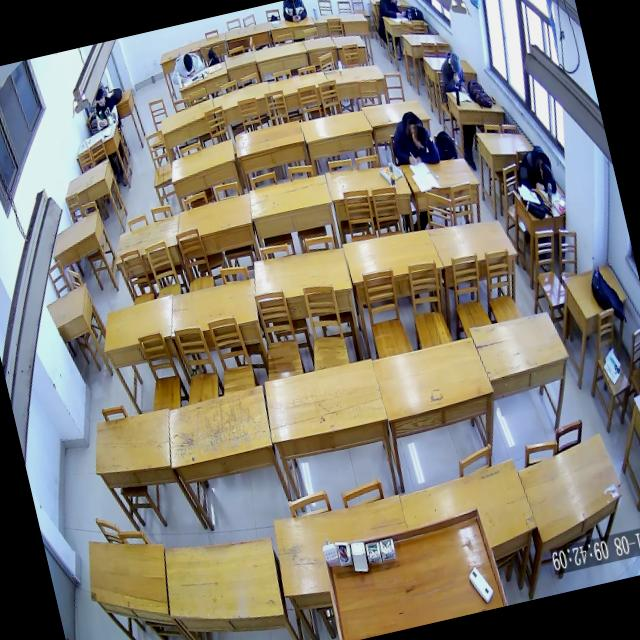bow: (385, 106, 441, 172), (512, 142, 558, 200), (167, 50, 207, 86)
down: (409, 122, 430, 150), (92, 86, 106, 108), (448, 52, 462, 74), (182, 52, 194, 72), (386, 0, 398, 5)
sit: (89, 84, 122, 132), (435, 50, 468, 98), (374, 0, 405, 23)
